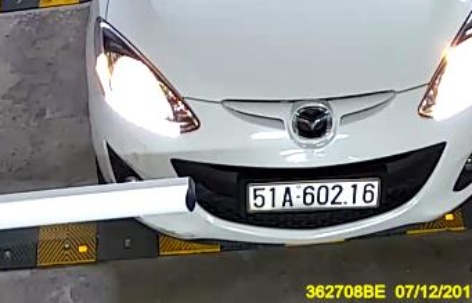plate: (246, 178, 386, 220)
